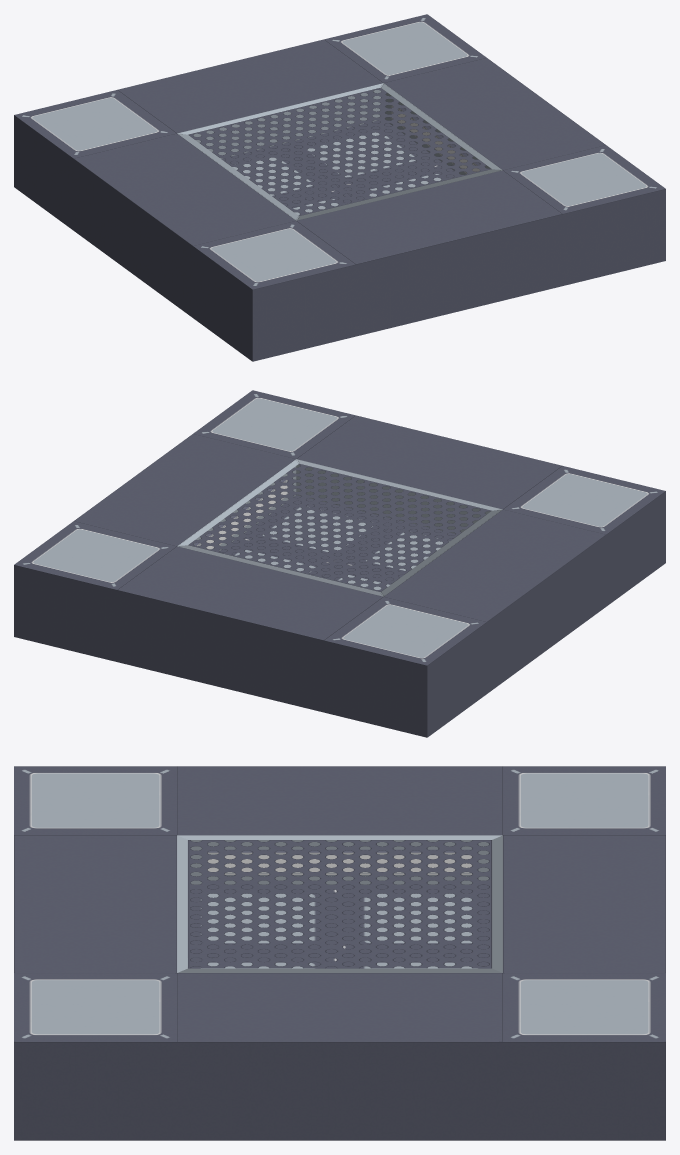
File: Floor_06.FBX
3 renders of one model, top to bottom at view 1: azimuth 30°, elevation 25°; view 2: azimuth 150°, elevation 25°; view 3: azimuth 270°, elevation 25°, orthographic. The views are drawn at different scales.
Parts seen in each view (by area): view 1: Floor_06; view 2: Floor_06; view 3: Floor_06.
Boxes of the visible parts, x1,y1,x2,y2 form: Floor_06: (14, 14, 665, 361); Floor_06: (14, 390, 665, 737); Floor_06: (14, 766, 665, 1140).
Size of the model in its own units: 6 by 1 by 6.
